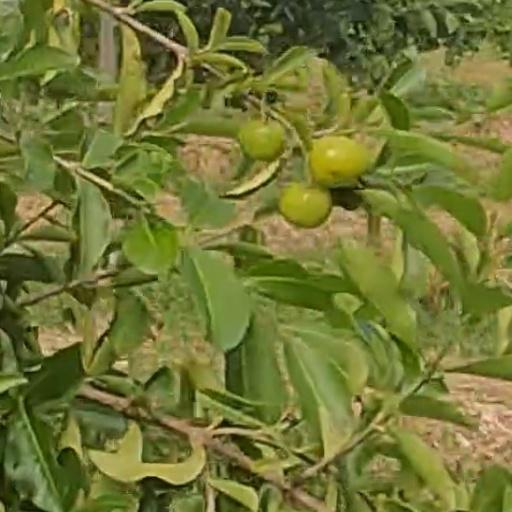acerola_verde: (313, 139, 368, 187), (279, 185, 331, 223), (244, 123, 287, 160)
